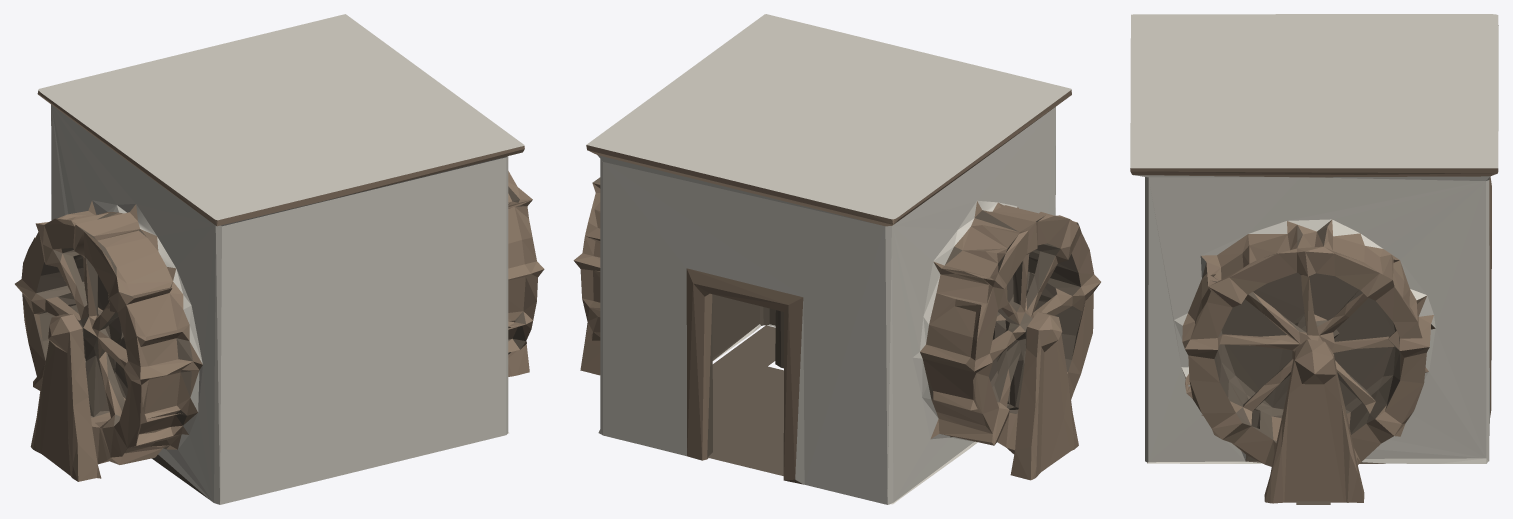
Rendered from etape-1.glb.
3 renders of one model, left to right at view 1: azimuth 30°, elevation 25°; view 2: azimuth 150°, elevation 25°; view 3: azimuth 270°, elevation 25°, orthographic. The views are drawn at different scales.
Parts seen in each view (by area): view 1: geometry_0; view 2: geometry_0; view 3: geometry_0.
Part boxes in pixels (<box>): geometry_0: <box>15,14,544,504</box>; geometry_0: <box>573,14,1100,504</box>; geometry_0: <box>1130,14,1498,504</box>.
Bounding box in the file's own units: 0.9825 × 0.5902 × 0.6592.
